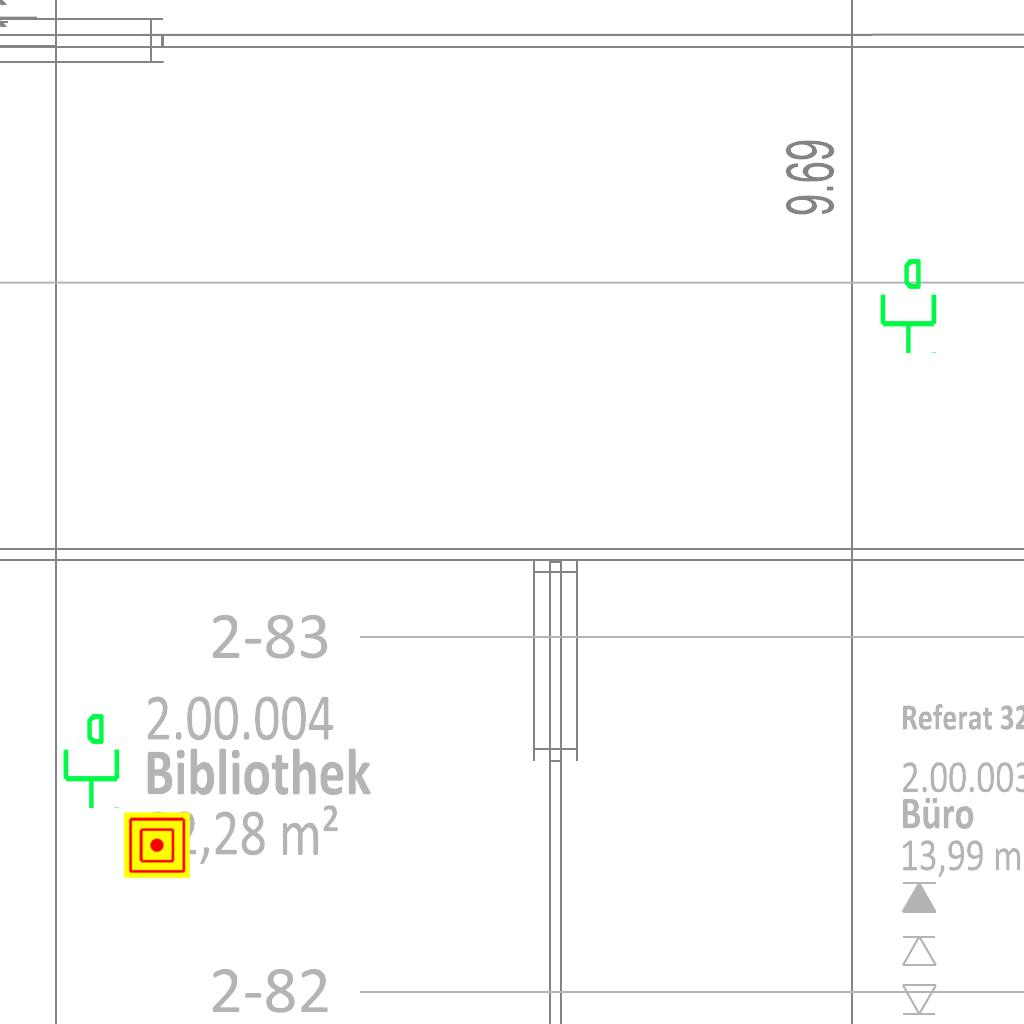Datenanschluss_einfach: (55, 711, 124, 811), (872, 256, 941, 356)
NAM-Nichtautomatischer_Melder: (124, 812, 190, 878)
